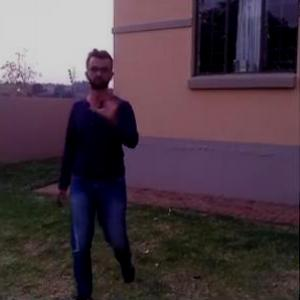follow_hand: (92, 80, 122, 120)
